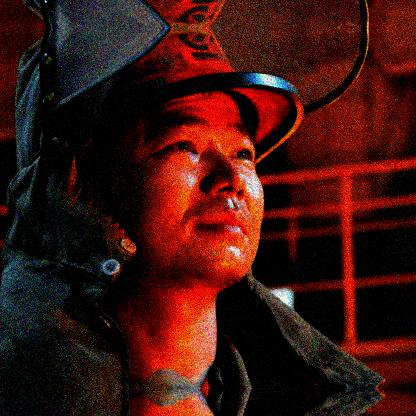helmet: (1, 1, 304, 282)
